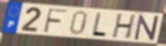0: (68, 10, 88, 37)
2: (20, 7, 44, 34)
F: (41, 7, 68, 35)
H: (111, 13, 138, 40)
L: (90, 11, 108, 38)
N: (134, 15, 160, 42)
